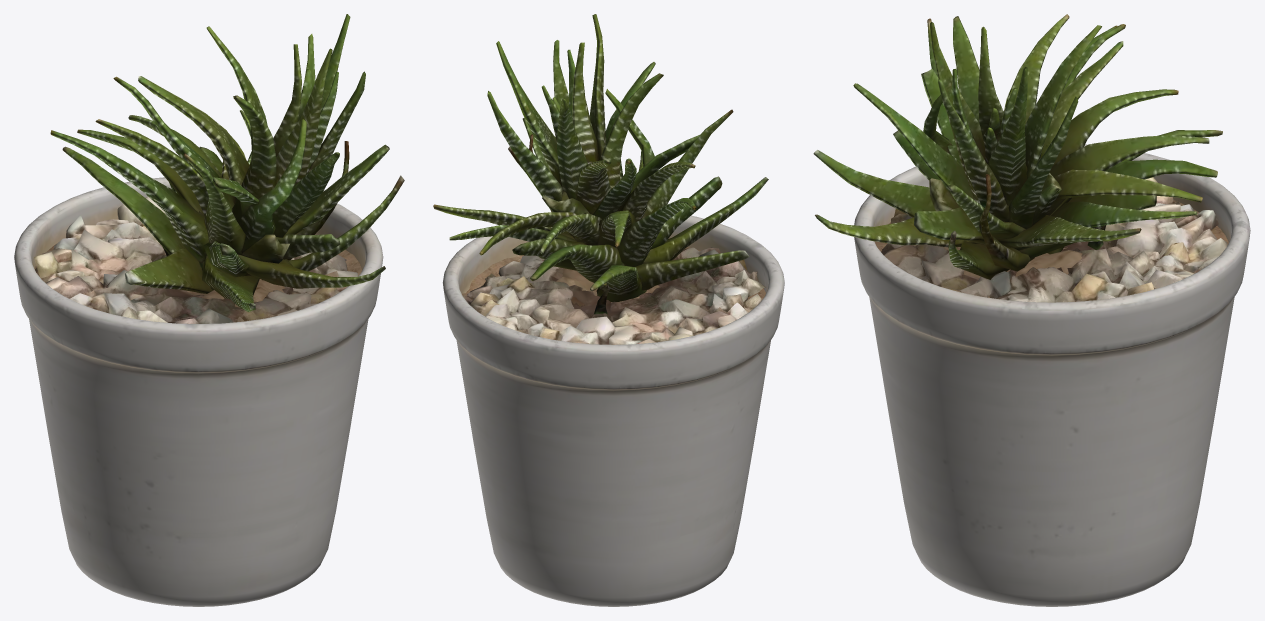
File: plants_potted_plant_04.glb
3 views of the same model, side by side, from view 1: azimuth 30°, elevation 25°; view 2: azimuth 150°, elevation 25°; view 3: azimuth 270°, elevation 25° (orthographic). The views are drawn at different scales.
Parts seen in each view (by area): view 1: potted_plant_04_pot, potted_plant_04_plant, potted_plant_04_ground, potted_plant_04_dirt; view 2: potted_plant_04_pot, potted_plant_04_plant, potted_plant_04_ground, potted_plant_04_dirt; view 3: potted_plant_04_pot, potted_plant_04_plant, potted_plant_04_ground, potted_plant_04_dirt.
Part boxes in pixels (left/top/right/bottom): potted_plant_04_pot: left=14, top=177, right=383, bottom=606; potted_plant_04_plant: left=50, top=14, right=404, bottom=311; potted_plant_04_ground: left=34, top=196, right=357, bottom=323; potted_plant_04_dirt: left=34, top=238, right=362, bottom=307; potted_plant_04_pot: left=442, top=215, right=784, bottom=606; potted_plant_04_plant: left=433, top=14, right=768, bottom=314; potted_plant_04_ground: left=463, top=247, right=765, bottom=344; potted_plant_04_dirt: left=462, top=247, right=765, bottom=306; potted_plant_04_pot: left=854, top=144, right=1250, bottom=606; potted_plant_04_plant: left=813, top=14, right=1222, bottom=279; potted_plant_04_ground: left=881, top=177, right=1227, bottom=302; potted_plant_04_dirt: left=875, top=200, right=1228, bottom=297.
Bounding box in the file's own units: 0.1679 × 0.2675 × 0.1848.
Materials: 1 (1 with a texture image).
